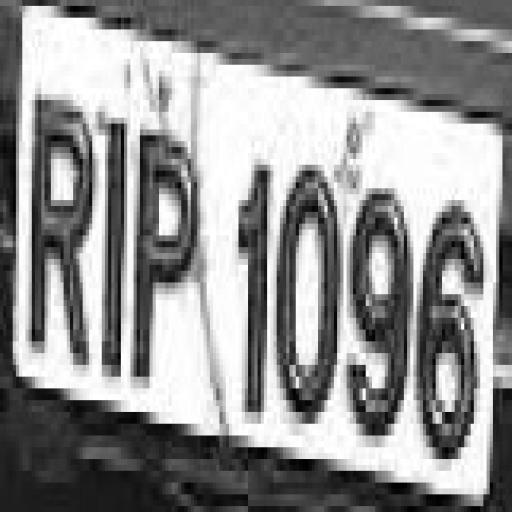0: (276, 147, 342, 445)
1: (230, 144, 271, 435)
6: (424, 193, 476, 466)
9: (342, 152, 418, 466)
I: (99, 97, 125, 368)
P: (132, 121, 196, 397)
R: (29, 82, 90, 377)
